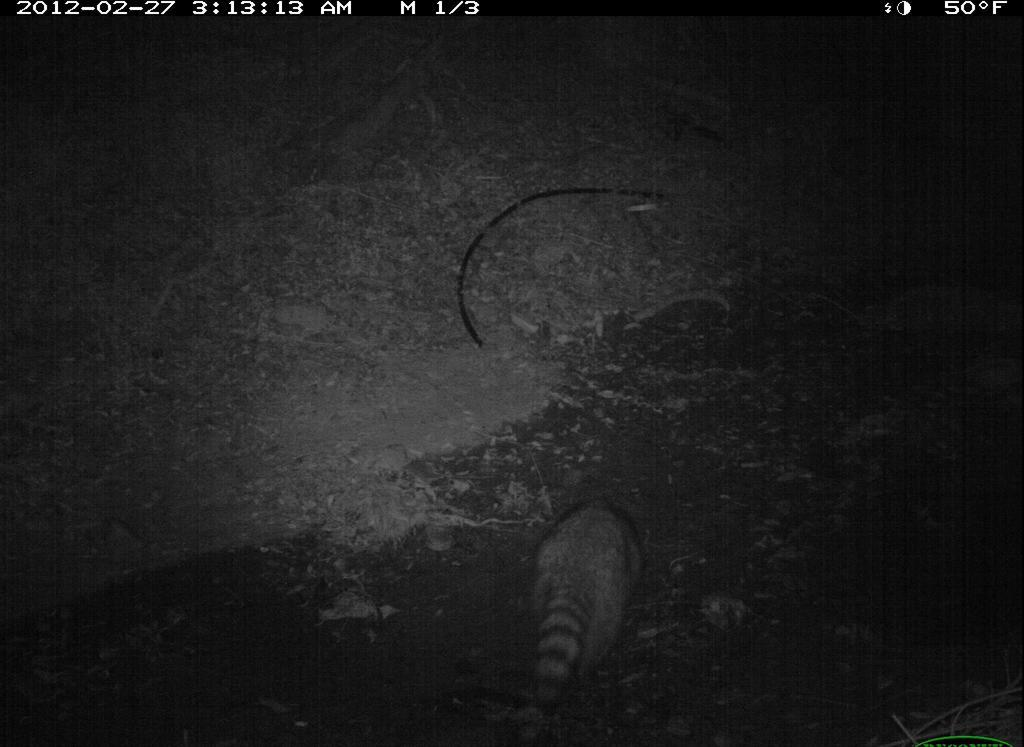raccoon: (509, 481, 666, 725)
